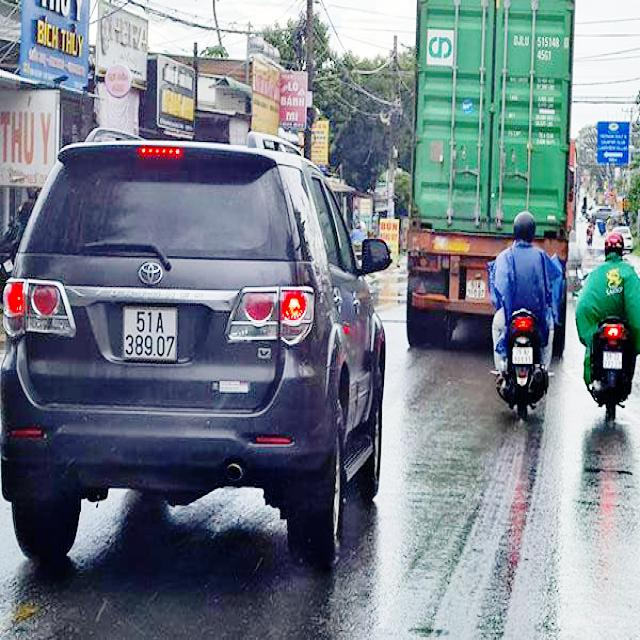license_plate: (123, 307, 178, 360), (467, 280, 488, 299), (604, 352, 623, 370), (514, 348, 534, 365)
